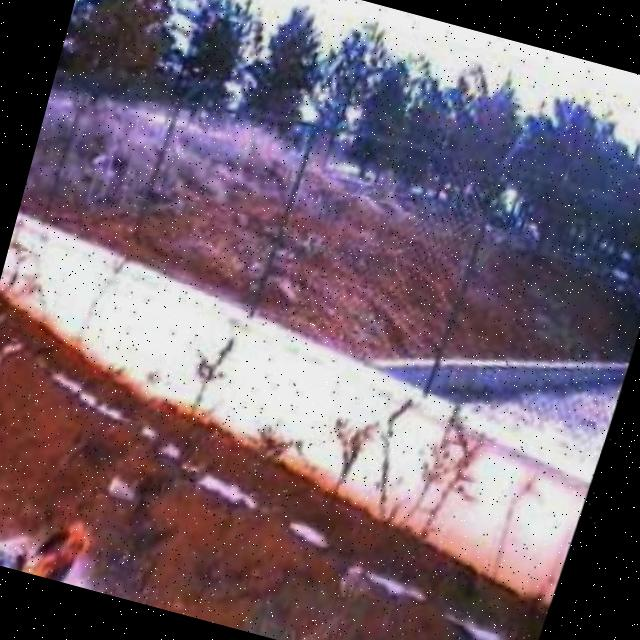fire: (0, 497, 108, 589)
